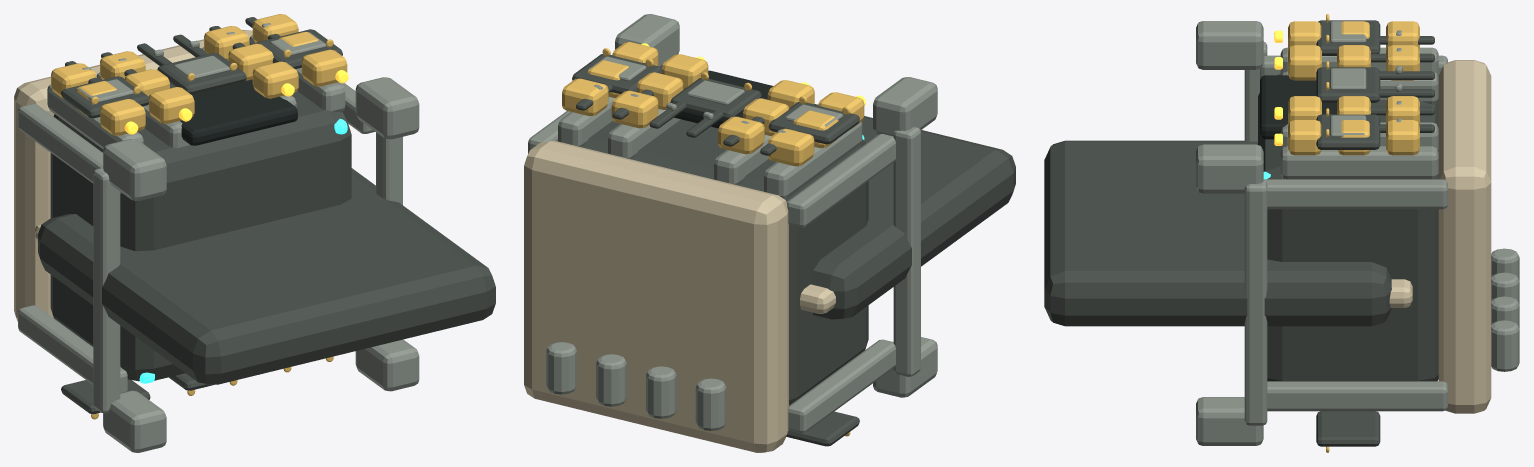
Rendered from armory.glb.
3 views of the same model, side by side, from view 1: azimuth 30°, elevation 25°; view 2: azimuth 150°, elevation 25°; view 3: azimuth 270°, elevation 25° (orthographic). The views are drawn at different scales.
Parts seen in each view (by area): view 1: Layered armored foundation.007, Ordnance magazine, Sloped ceramic magazine roof, Continuous side skid.014, Blast-lock entry, Corner cast foot.031, Corner cast foot.029, Structural corner rail.028, Structural corner rail.030, Corner cast foot.028, Corner cast foot.030, Continuous side skid.015 (+21 smaller); view 2: Sloped ceramic magazine roof, Layered armored foundation.007, Ordnance magazine, Continuous side skid.014, Structural corner rail.030, Structural corner rail.028, Corner cast foot.029, External armored rack, Corner cast foot.031, Corner cast foot.028, Roof vent, Roof vent.001 (+25 smaller); view 3: Layered armored foundation.007, Ordnance magazine, Sloped ceramic magazine roof, Continuous side skid.015, Structural corner rail.031, Structural corner rail.029, External armored rack.003, Corner cast foot.029, Corner cast foot.031, Corner cast foot.030, Recessed service hatch.044, Blast-lock entry (+26 smaller).
Boxes of the visible parts, x1,y1,x2,y2 form: Layered armored foundation.007: [38, 168, 495, 384]; Ordnance magazine: [50, 83, 351, 381]; Sloped ceramic magazine roof: [14, 30, 252, 321]; Continuous side skid.014: [93, 167, 120, 413]; Blast-lock entry: [180, 79, 297, 145]; Corner cast foot.031: [355, 77, 419, 139]; Corner cast foot.029: [103, 139, 166, 200]; Structural corner rail.028: [18, 305, 127, 393]; Structural corner rail.030: [18, 104, 122, 193]; Corner cast foot.028: [103, 390, 166, 452]; Corner cast foot.030: [355, 339, 419, 391]; Continuous side skid.015: [376, 132, 402, 204]; Sloped ceramic magazine roof: [524, 141, 788, 452]; Layered armored foundation.007: [810, 104, 1015, 319]; Ordnance magazine: [581, 119, 868, 405]; Continuous side skid.014: [893, 127, 920, 376]; Structural corner rail.030: [786, 134, 895, 227]; Structural corner rail.028: [788, 339, 895, 433]; Corner cast foot.029: [873, 77, 937, 136]; External armored rack: [764, 122, 862, 198]; Corner cast foot.031: [615, 14, 679, 67]; Corner cast foot.028: [873, 337, 937, 397]; Roof vent: [695, 378, 726, 430]; Roof vent.001: [646, 366, 676, 418]; Layered armored foundation.007: [1044, 140, 1391, 326]; Ordnance magazine: [1258, 74, 1438, 381]; Sloped ceramic magazine roof: [1438, 60, 1491, 413]; Continuous side skid.015: [1244, 180, 1267, 425]; Structural corner rail.031: [1264, 179, 1447, 209]; Structural corner rail.029: [1267, 381, 1447, 411]; External armored rack.003: [1280, 146, 1438, 179]; Corner cast foot.029: [1196, 21, 1263, 69]; Corner cast foot.031: [1196, 144, 1263, 193]; Corner cast foot.030: [1196, 397, 1263, 445]; Recessed service hatch.044: [1316, 411, 1380, 446]; Blast-lock entry: [1260, 75, 1336, 139].
Bounding box in the file's own units: 1.86 × 1.89 × 2.52.
